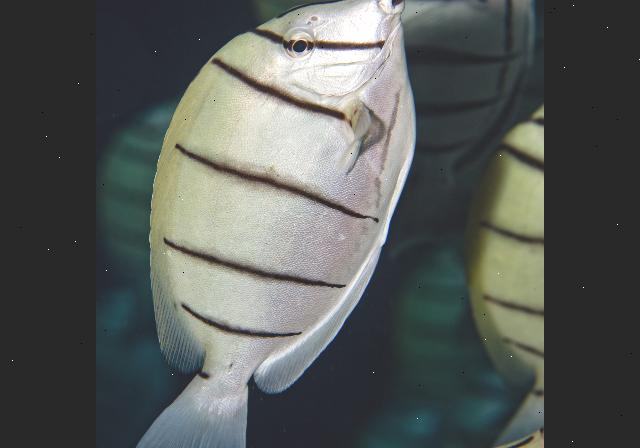Mulut: (351, 0, 430, 35)
Sirip Anal: (245, 250, 392, 404)
Sirip Dada: (316, 81, 396, 197)
Sirip Ekor: (117, 371, 263, 448)
Sirip Punggung: (141, 86, 207, 378)
